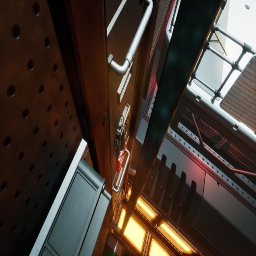0: (107, 241, 118, 256)
EmergencyPhone ,: (116, 102, 130, 158)
FireAlarm ,: (116, 141, 126, 173)
